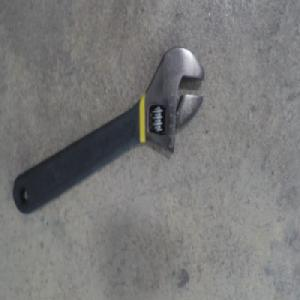AdjustableWrench: (12, 45, 204, 215)
